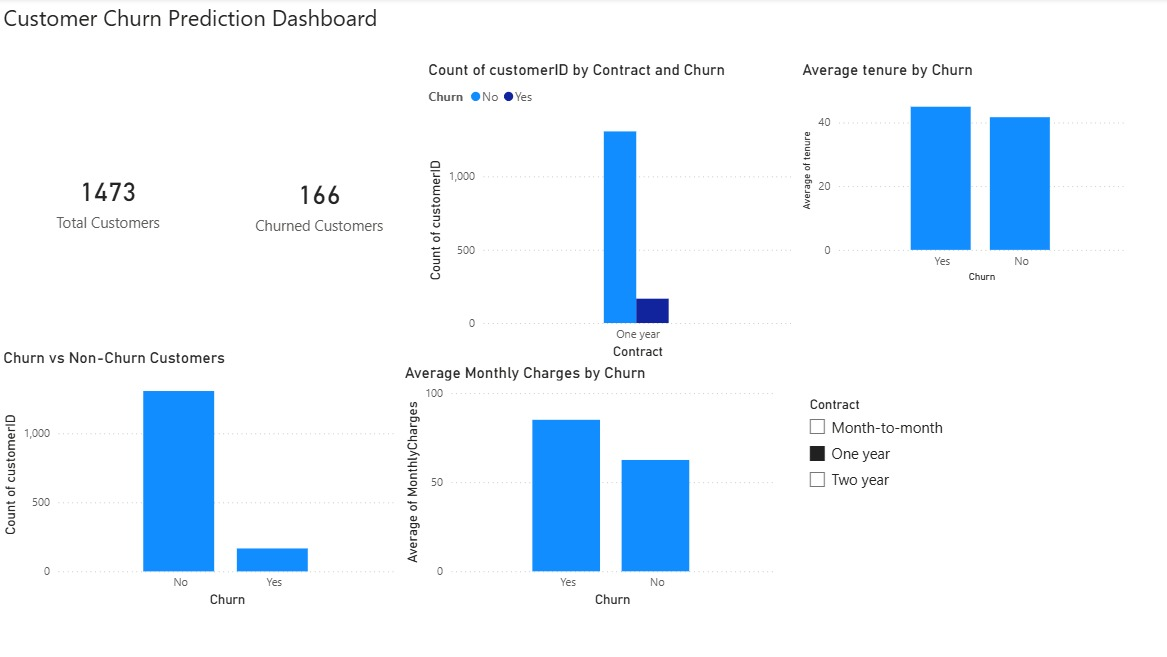

Layout of this report page (visuals, bound fields, positions):
{"tool":"powerbi","page":{"name":"Page 1","canvas":[1280,720],"ordinal":0},"visuals":[{"type":"card","fields":{"Values":["Count(Telco-Customer-Churn.customerID)"]},"box":[0,127.6,238.8,188],"z":0},{"type":"card","fields":{"Values":["Telco-Customer-Churn.Churned Customers"]},"box":[238.8,133.1,222.3,182.5],"z":1000},{"type":"clusteredColumnChart","title":"Churn vs Non-Churn Customers","fields":{"Category":["Telco-Customer-Churn.Churn"],"Y":["CountNonNull(Telco-Customer-Churn.customerID)"]},"box":[0,382.8,439.1,288.2],"z":1001},{"type":"clusteredColumnChart","fields":{"Category":["Telco-Customer-Churn.Contract"],"Y":["CountNonNull(Telco-Customer-Churn.customerID)"],"Series":["Telco-Customer-Churn.Churn"]},"box":[465.2,68.6,407.5,330.7],"z":1002},{"type":"clusteredColumnChart","title":"Average Monthly Charges by Churn","fields":{"Category":["Telco-Customer-Churn.Churn"],"Y":["Avg(Telco-Customer-Churn.MonthlyCharges)"]},"box":[439.1,399.3,413,271.7],"z":1003},{"type":"clusteredColumnChart","title":"Average tenure by Churn","fields":{"Category":["Telco-Customer-Churn.Churn"],"Y":["Avg(Telco-Customer-Churn.tenure)"]},"box":[872.7,68.6,362.3,247],"z":1004},{"type":"slicer","fields":{"Values":["Telco-Customer-Churn.Contract"]},"box":[872.7,430.9,216.8,145.5],"z":1005},{"type":"textbox","box":[0,0,439.1,49.4],"z":1006}]}

Visuals, with their boxes in screenshot pixels (x1, y1, x2, y2), scaled from the page's 1280x720 canvas onto the 1167x657 screenshot:
card - Count(Telco-Customer-Churn.customerID): 0, 116, 218, 288
card - Telco-Customer-Churn.Churned Customers: 218, 121, 420, 288
"Churn vs Non-Churn Customers" clusteredColumnChart: 0, 349, 400, 612
clusteredColumnChart - Telco-Customer-Churn.Contract x CountNonNull(Telco-Customer-Churn.customerID): 424, 63, 796, 364
"Average Monthly Charges by Churn" clusteredColumnChart: 400, 364, 777, 612
"Average tenure by Churn" clusteredColumnChart: 796, 63, 1126, 288
slicer - Telco-Customer-Churn.Contract: 796, 393, 993, 526
textbox: 0, 0, 400, 45
